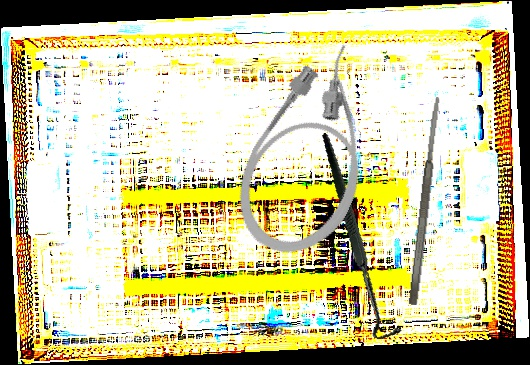Cannula: (217, 28, 411, 274)
Hook Surgical: (282, 132, 440, 344)
Spatula Surgical: (406, 96, 445, 306)
